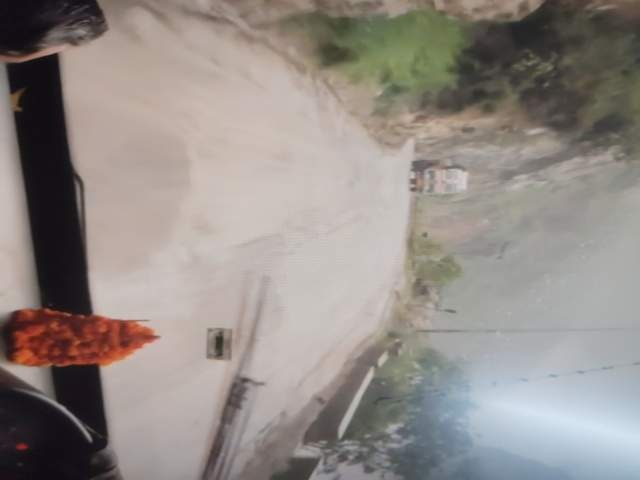pothole: (209, 311, 309, 391)
